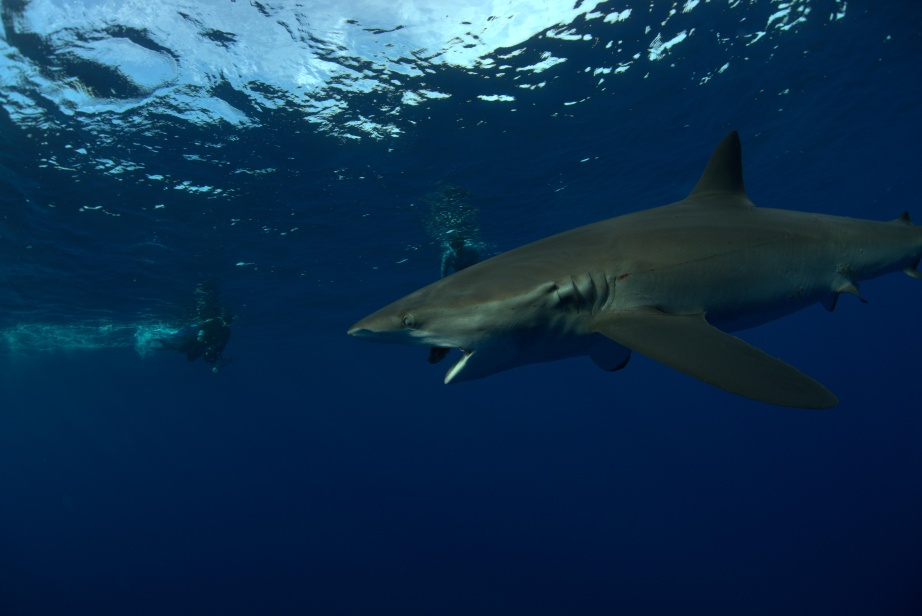Sedoso: (315, 95, 922, 436)
